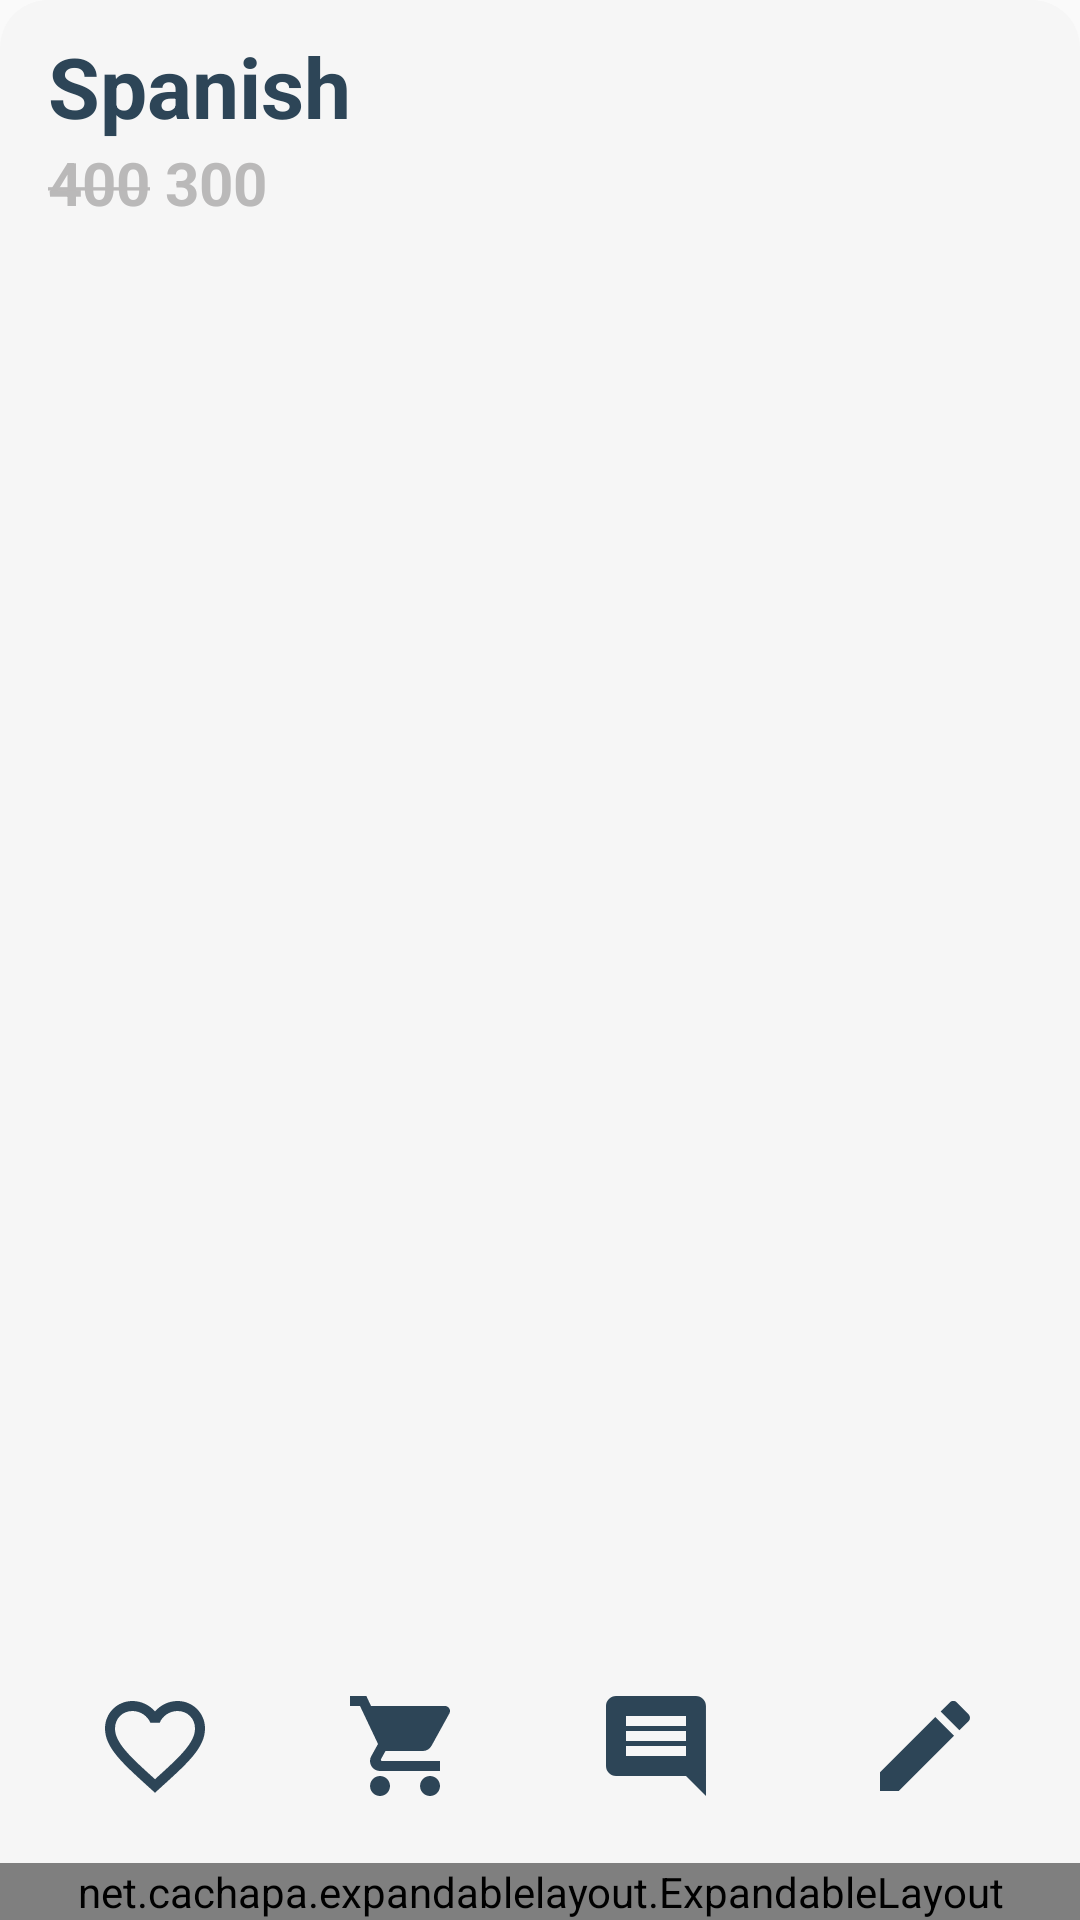

Where to tap for icons on this 1080w x 1920h app screen, as (x=x, y=y):
comment: (x=656, y=1746)
edit: (x=925, y=1746)
favorite: (x=155, y=1747)
local grocery: (x=400, y=1746)
